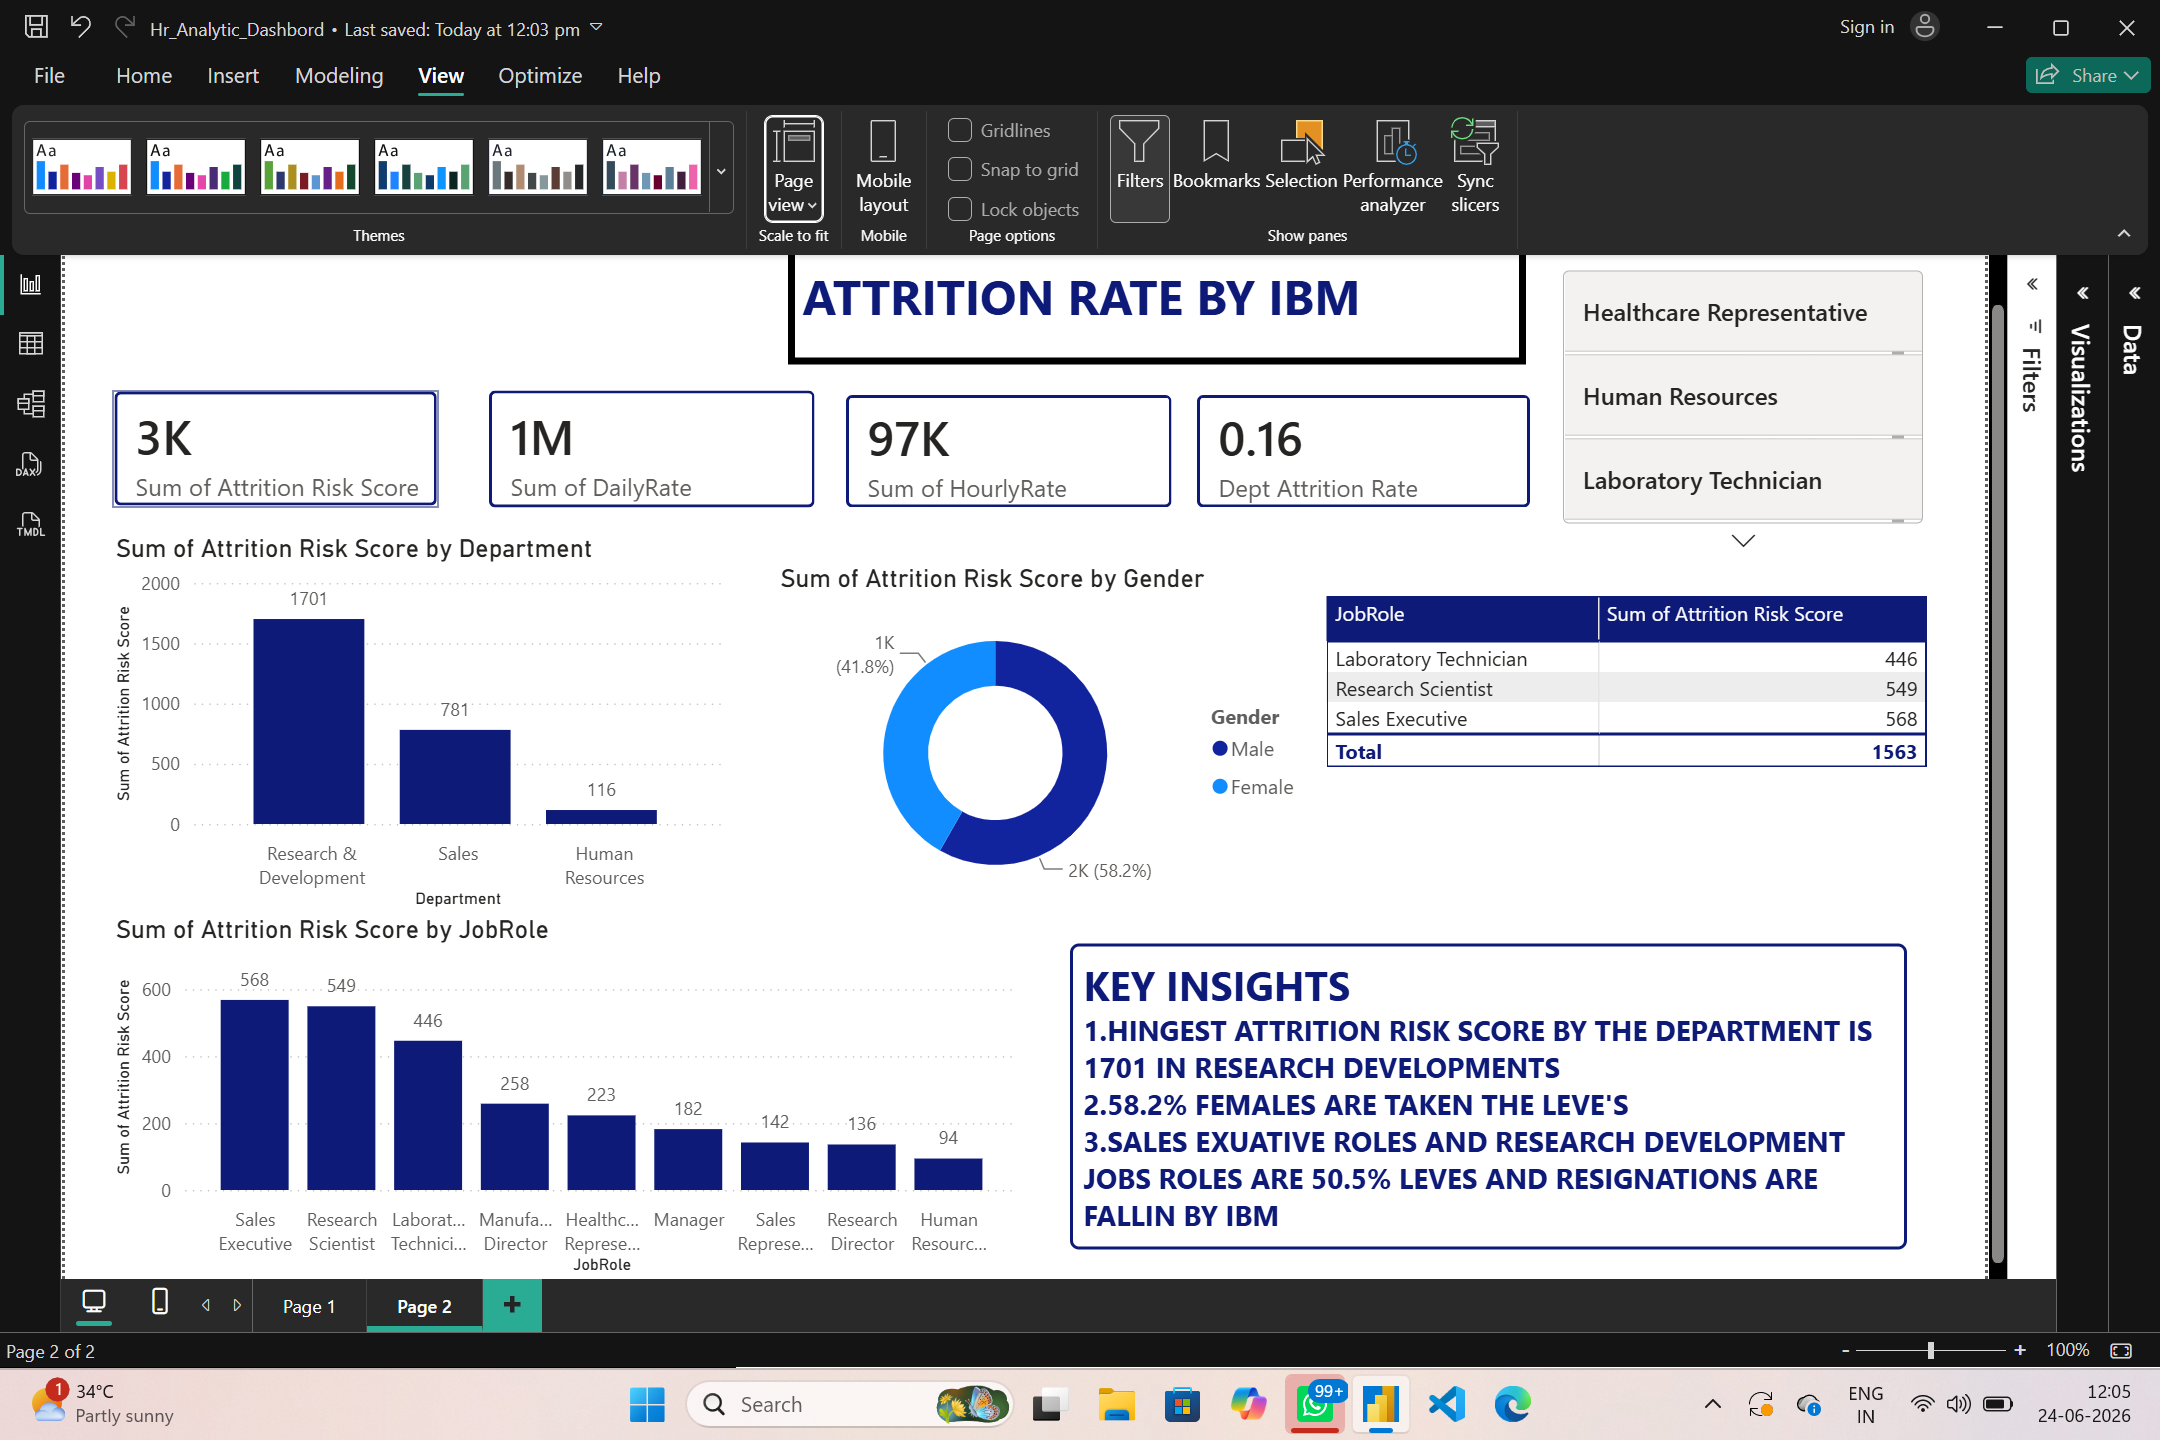

The page's visual inventory and layout, read from the dashboard file:
{"tool":"powerbi","page":{"name":"Page 2","canvas":[1280,720],"ordinal":1},"visuals":[{"type":"textbox","box":[481.5,21.4,492.2,78],"z":0},{"type":"cardVisual","fields":{"Data":["Sum(hr_analytics.Attrition Risk Score)"]},"box":[15.3,99.4,250.7,111.6],"z":1},{"type":"cardVisual","fields":{"Data":["Sum(hr_analytics.DailyRate)"]},"box":[266,99.4,250.7,111.6],"z":2},{"type":"cardVisual","fields":{"Data":["Sum(hr_analytics.HourlyRate)"]},"box":[504.5,102.4,250.7,108.5],"z":3},{"type":"cardVisual","fields":{"Data":["hr_analytics.Dept Attrition Rate"]},"box":[738.3,102.4,255.3,108.5],"z":4},{"type":"cardVisual","fields":{"Rows":["hr_analytics.JobRole"]},"box":[993.6,10.7,250.7,220.1],"z":5},{"type":"columnChart","fields":{"Category":["hr_analytics.Department"],"Y":["Sum(hr_analytics.Attrition Risk Score)"]},"box":[29,211,414.3,253.8],"z":6},{"type":"clusteredColumnChart","fields":{"Y":["Sum(hr_analytics.Attrition Risk Score)"],"Category":["hr_analytics.JobRole"]},"box":[29,464.7,611.5,244.6],"z":7},{"type":"donutChart","fields":{"Y":["Sum(hr_analytics.Attrition Risk Score)"],"Category":["hr_analytics.Gender"]},"box":[472.4,230.8,362.3,233.9],"z":8},{"type":"tableEx","fields":{"Values":["hr_analytics.JobRole","Sum(hr_analytics.Attrition Risk Score)"]},"box":[834.7,247.6,412.7,148.3],"z":9},{"type":"textbox","box":[669.6,484.6,558,204.8],"z":10}]}

Visuals, with their boxes on the page's 1280x720 design canvas (x1, y1, x2, y2). These are canvas units, not pixel positions in the 2160x1440 screenshot, which may show the page scaled, cropped or inside an application window:
textbox: bbox=(482, 21, 974, 99)
cardVisual - Sum(hr_analytics.Attrition Risk Score): bbox=(15, 99, 266, 211)
cardVisual - Sum(hr_analytics.DailyRate): bbox=(266, 99, 517, 211)
cardVisual - Sum(hr_analytics.HourlyRate): bbox=(504, 102, 755, 211)
cardVisual - hr_analytics.Dept Attrition Rate: bbox=(738, 102, 994, 211)
cardVisual - hr_analytics.JobRole: bbox=(994, 11, 1244, 231)
columnChart - hr_analytics.Department x Sum(hr_analytics.Attrition Risk Score): bbox=(29, 211, 443, 465)
clusteredColumnChart - Sum(hr_analytics.Attrition Risk Score) x hr_analytics.JobRole: bbox=(29, 465, 640, 709)
donutChart - Sum(hr_analytics.Attrition Risk Score) x hr_analytics.Gender: bbox=(472, 231, 835, 465)
tableEx - hr_analytics.JobRole x Sum(hr_analytics.Attrition Risk Score): bbox=(835, 248, 1247, 396)
textbox: bbox=(670, 485, 1228, 689)
